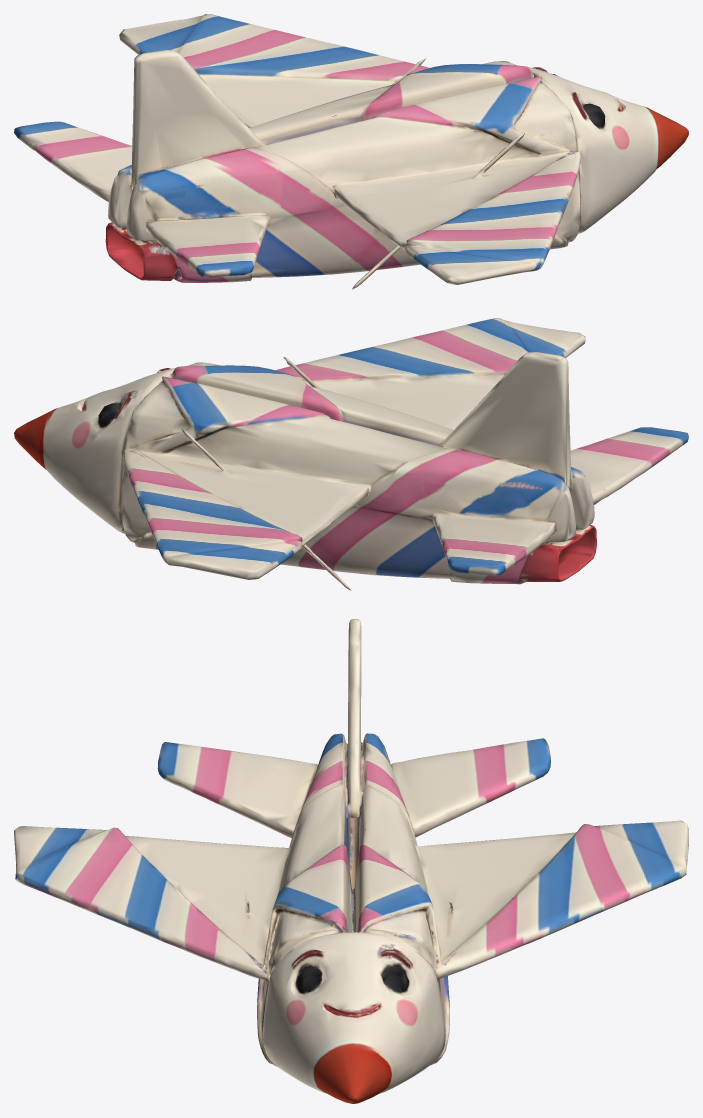
3 views of the same model, one above another, from view 1: azimuth 30°, elevation 25°; view 2: azimuth 150°, elevation 25°; view 3: azimuth 270°, elevation 25° (orthographic).
Parts seen in each view (by area): view 1: repaired; view 2: repaired; view 3: repaired.
Part boxes in pixels (x1,y1,x2,y2): repaired: (14,14,688,289); repaired: (14,318,688,590); repaired: (14,619,688,1103).
Size of the model in its own units: 0.9993 by 0.4294 by 0.9993.
1 material, 1 textured.
